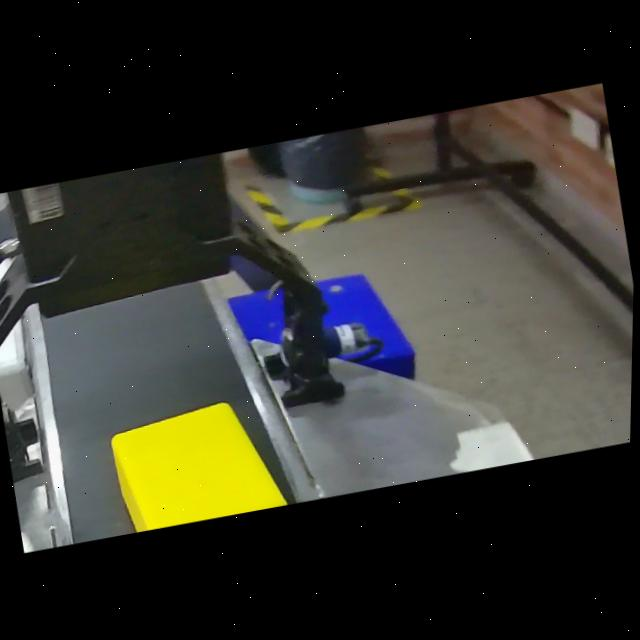yellowBox: (96, 381, 299, 536)
